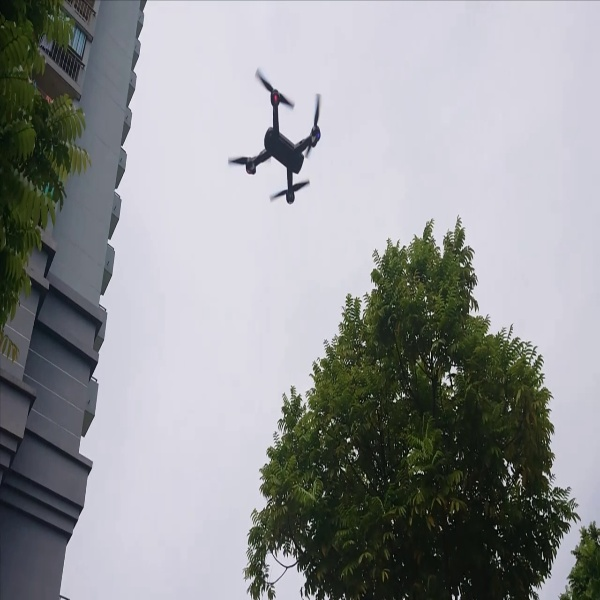drone: (217, 68, 349, 218)
